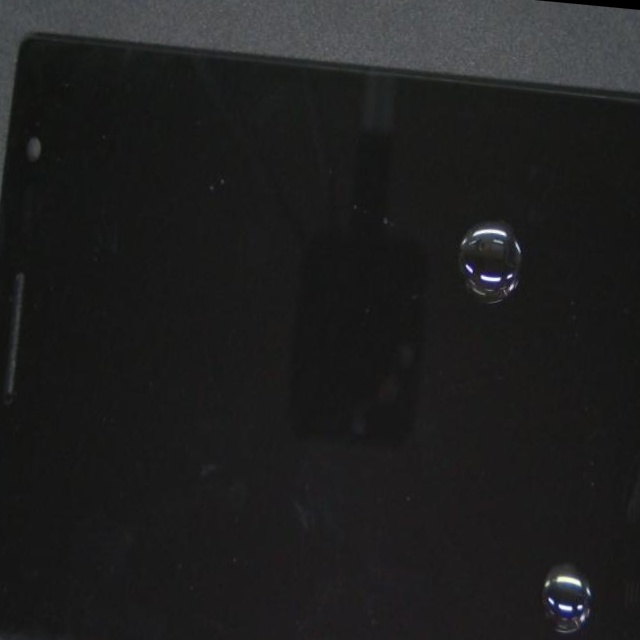oil: (252, 249, 640, 640), (260, 103, 640, 374)
